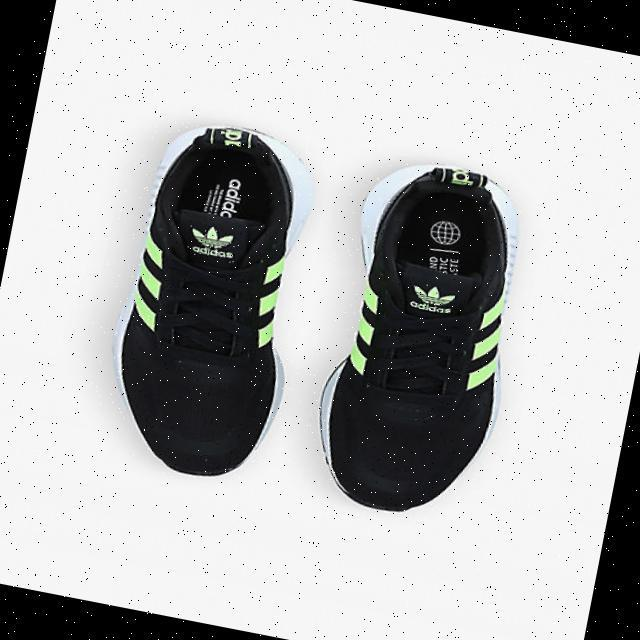Adidas: (184, 221, 242, 265), (406, 279, 464, 320)
